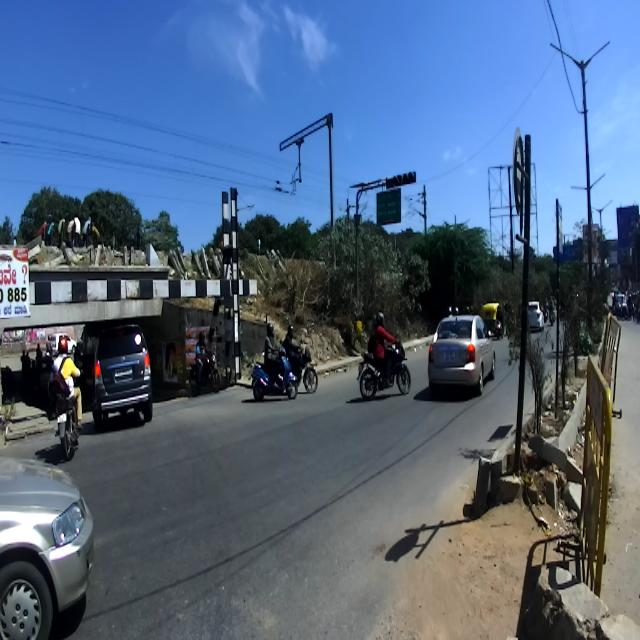car ahead at: (0, 447, 94, 640), (90, 326, 156, 428), (424, 306, 496, 395)
motorcycle ahead at: (356, 342, 410, 408)
